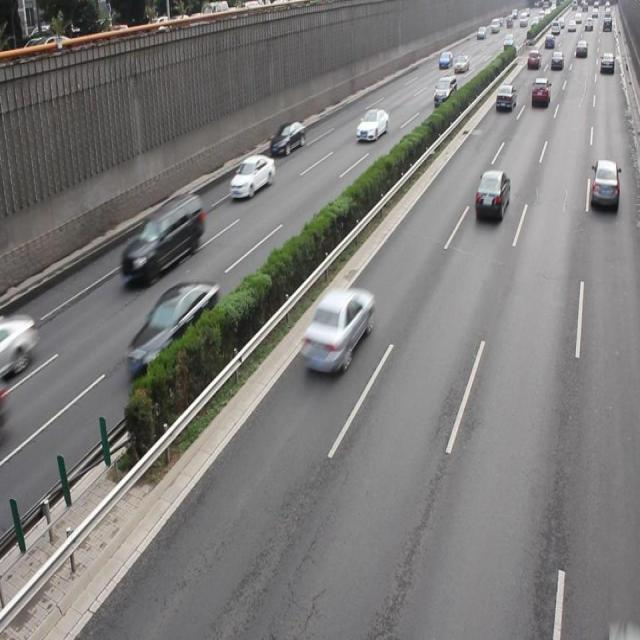car: (127, 280, 219, 379), (299, 286, 372, 376), (229, 153, 275, 199), (474, 169, 510, 220), (589, 158, 618, 213), (270, 120, 304, 158), (356, 108, 389, 143)
truck: (122, 190, 204, 283)
